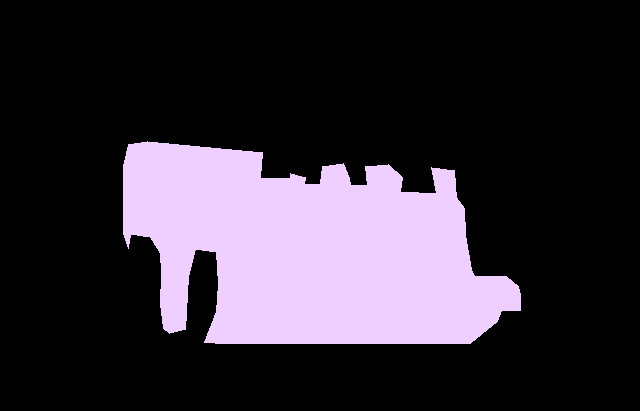Train: (123, 141, 521, 344)
